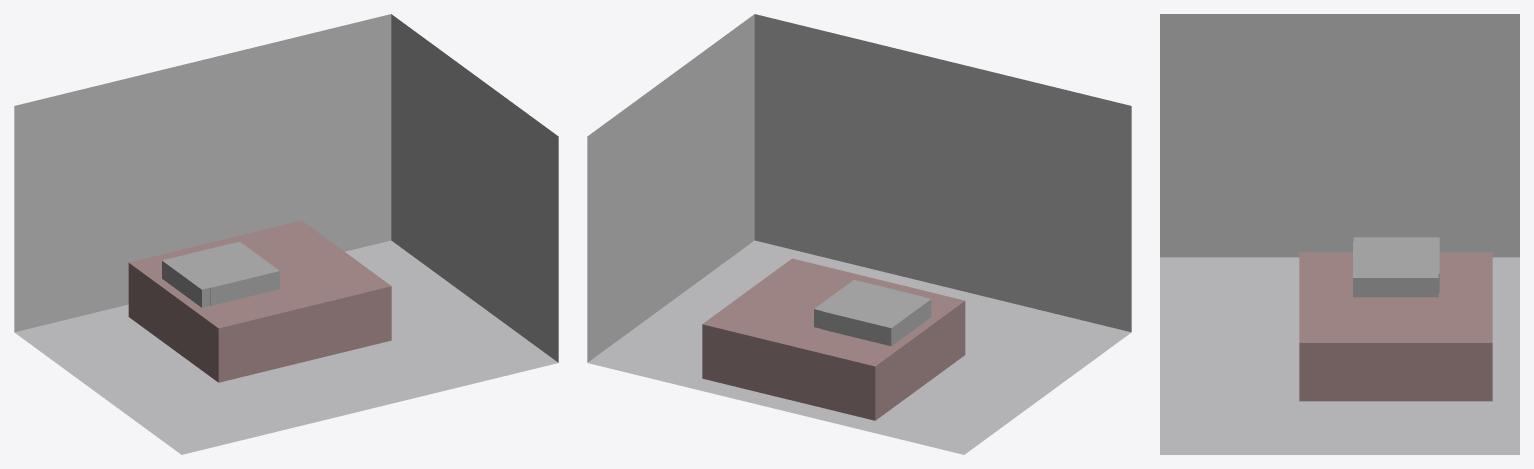
The model's file is optimised_layout.glb.
3 renders of one model, left to right at view 1: azimuth 30°, elevation 25°; view 2: azimuth 150°, elevation 25°; view 3: azimuth 270°, elevation 25°, orthographic. The views are drawn at different scales.
Visible parts, largest first — view 1: room, bed, beds, tables; view 2: room, bed, beds, tables; view 3: room, bed, tables, beds.
Boxes of the visible parts, left/top/right/bottom form: room: left=14, top=14, right=558, bottom=454; bed: left=128, top=220, right=391, bottom=382; beds: left=162, top=243, right=270, bottom=307; tables: left=193, top=242, right=279, bottom=305; room: left=587, top=14, right=1131, bottom=454; bed: left=702, top=258, right=965, bottom=420; beds: left=822, top=288, right=931, bottom=346; tables: left=814, top=280, right=922, bottom=328; room: left=1160, top=14, right=1519, bottom=454; bed: left=1299, top=252, right=1492, bottom=401; tables: left=1353, top=241, right=1438, bottom=297; beds: left=1353, top=237, right=1439, bottom=292.
Bounding box in the file's own units: 4.36 × 2.5 × 3.35.
